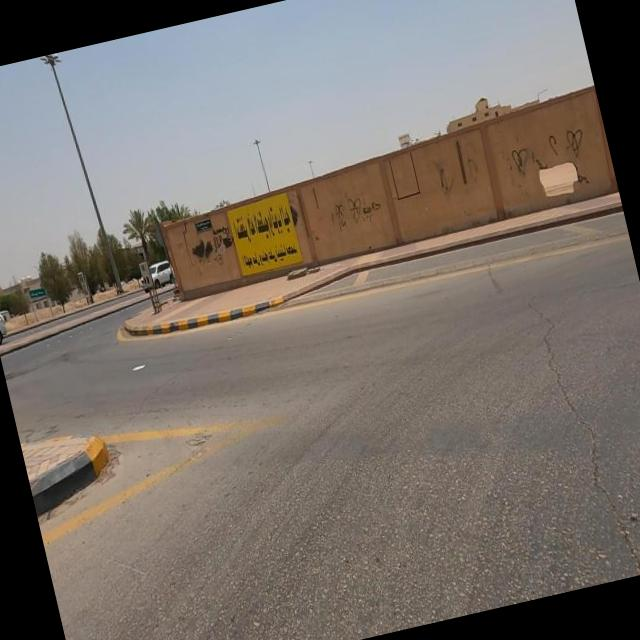debris: (152, 191, 268, 308), (291, 161, 418, 262), (532, 90, 617, 198), (474, 111, 568, 205), (416, 138, 472, 226)
